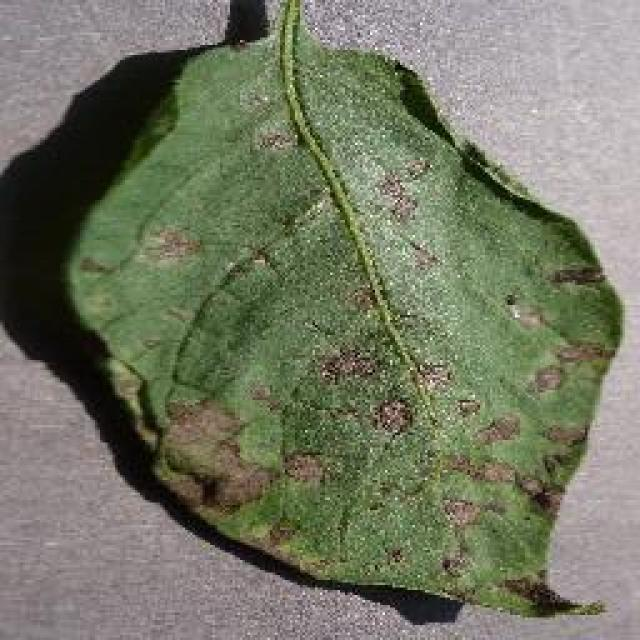Potato___Early_blight: (56, 0, 626, 621)
